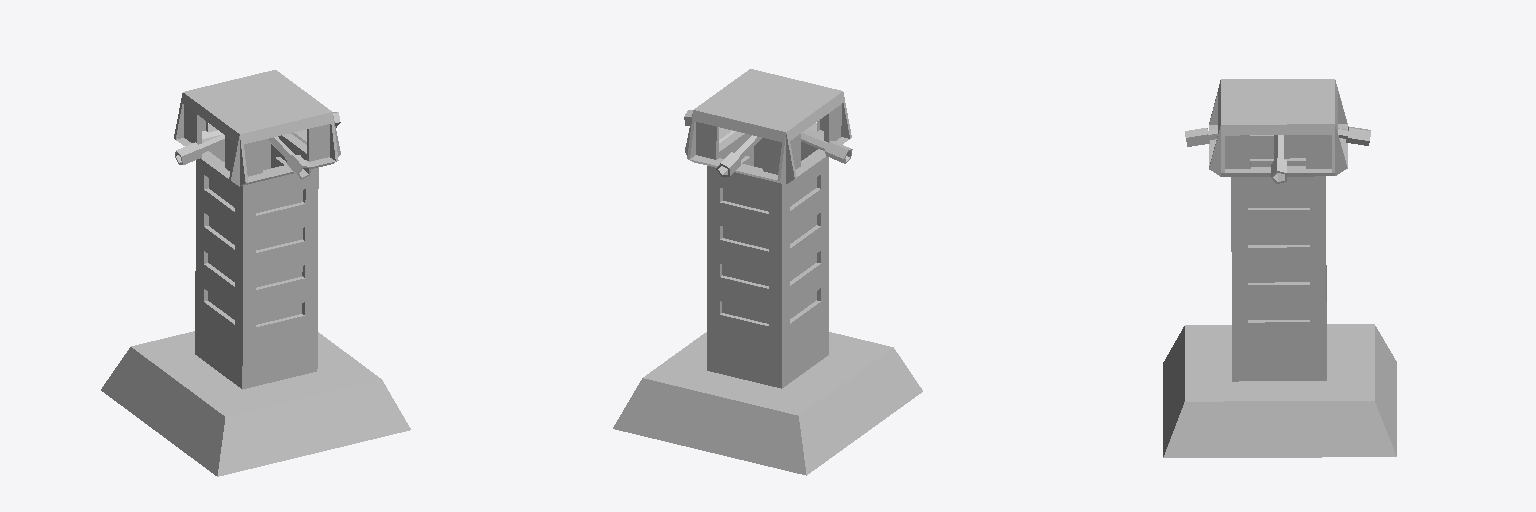
The model's file is Tower.obj.
3 renders of one model, left to right at view 1: azimuth 30°, elevation 25°; view 2: azimuth 150°, elevation 25°; view 3: azimuth 270°, elevation 25°, orthographic.
Size of the model in its own units: 10.03 by 15.31 by 10.47.